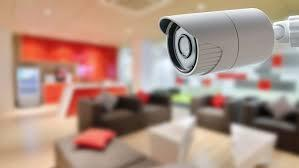tutu: (155, 4, 276, 77)
